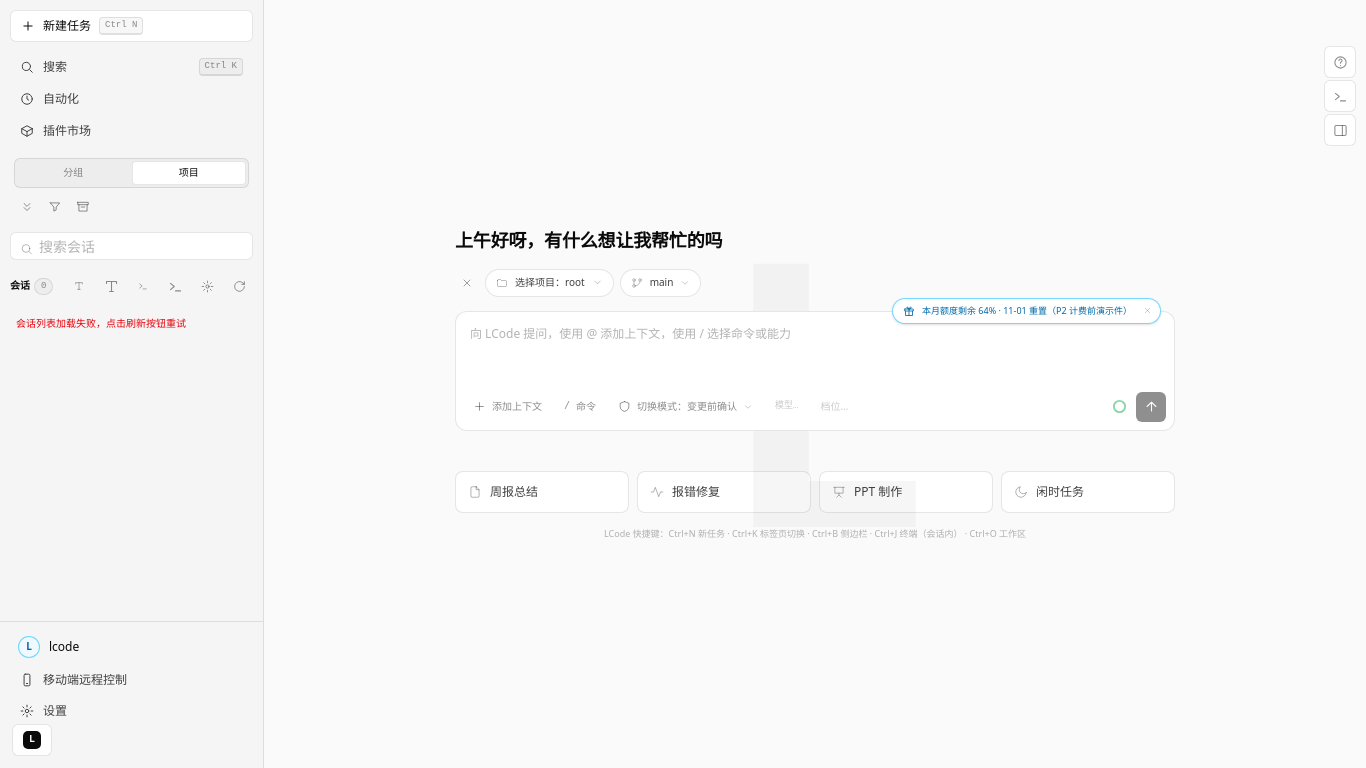
Scenario: AppShell · 路由与三栏（任务 #2） › 右面板：默认收起（宽度 0）+ rail 展开入口 → 展开后出现标签条
This screenshot has width=1366, height=768.
Click the button with test id "panel-open-rail". click: (1340,130)
box: [1324, 114, 1356, 146]
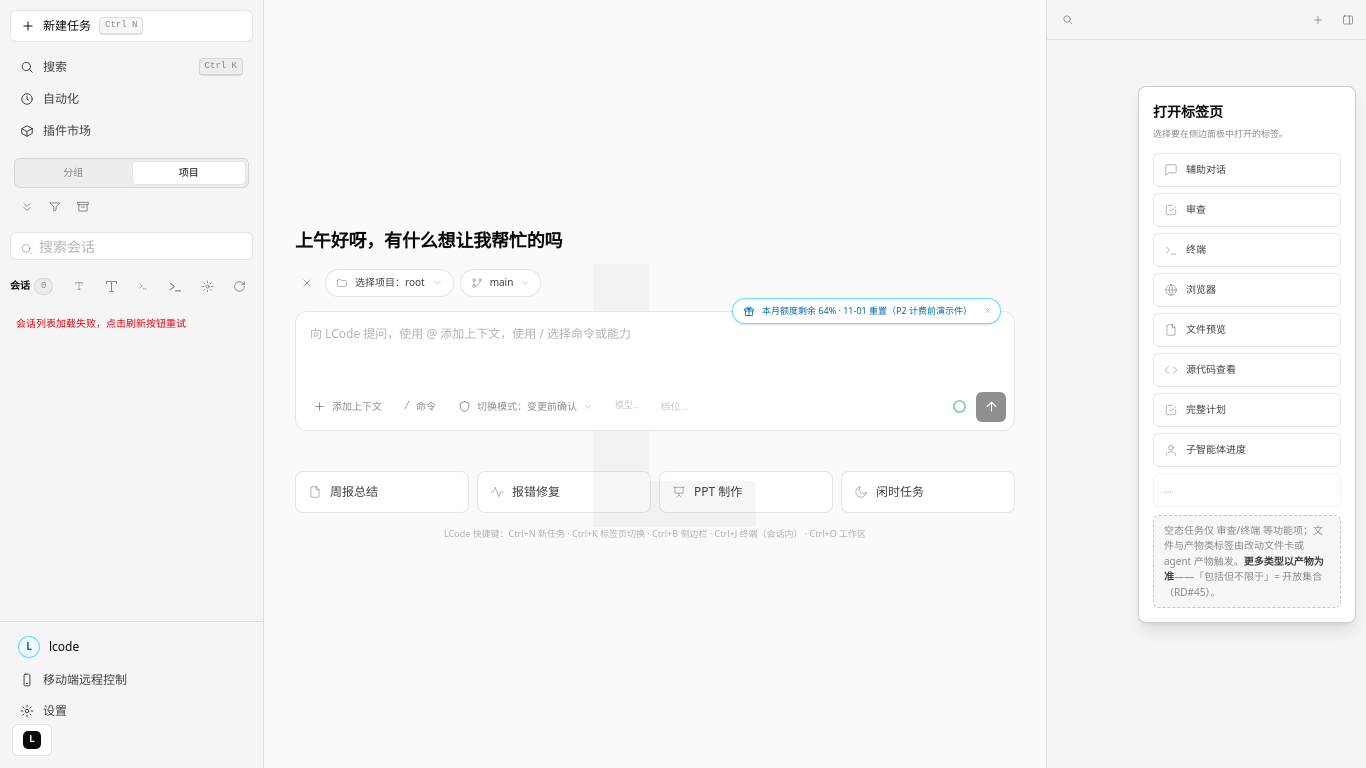
Check: the element with test id "panel-tabs" is shown, box [1047, 0, 1365, 40]
